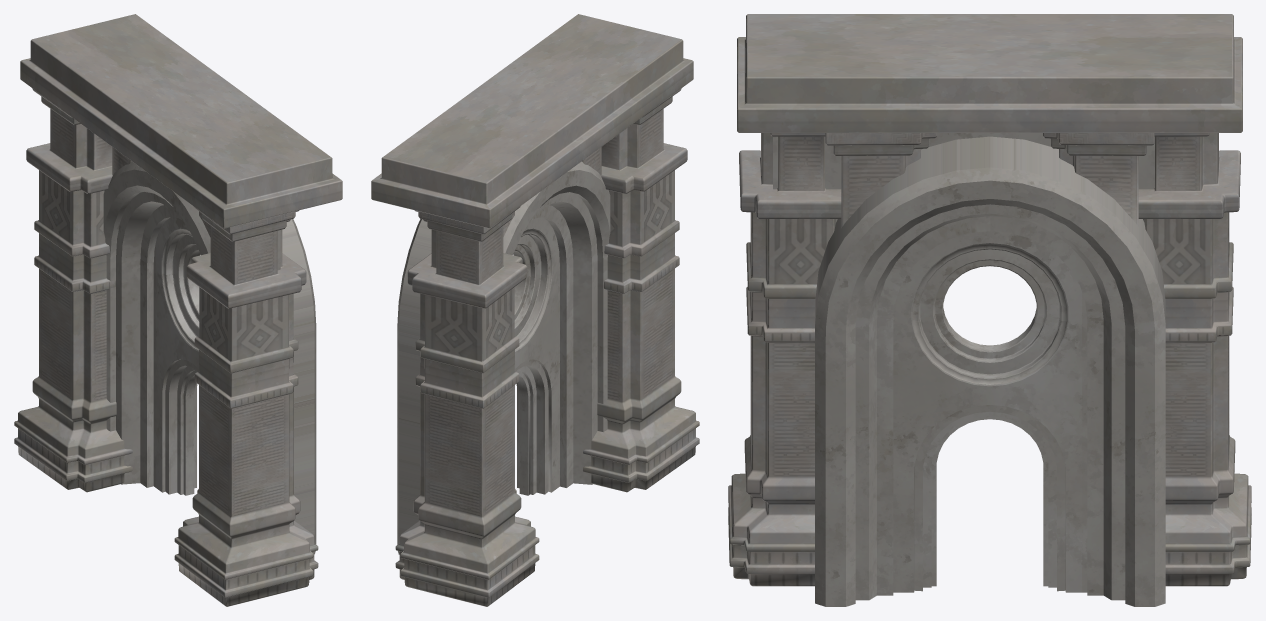
Rendered from SM_Door_02.fbx.
3 renders of one model, left to right at view 1: azimuth 30°, elevation 25°; view 2: azimuth 150°, elevation 25°; view 3: azimuth 270°, elevation 25°, orthographic. The views are drawn at different scales.
Parts seen in each view (by area): view 1: SM_Door_02_LOD0; view 2: SM_Door_02_LOD0; view 3: SM_Door_02_LOD0.
Part boxes in pixels (box(x1,y1,x2,y2)): SM_Door_02_LOD0: box(14, 14, 342, 606); SM_Door_02_LOD0: box(371, 14, 699, 606); SM_Door_02_LOD0: box(728, 14, 1251, 606).
Size of the model in its own units: 254 by 712 by 780.
Materials: 2 (2 with a texture image).
